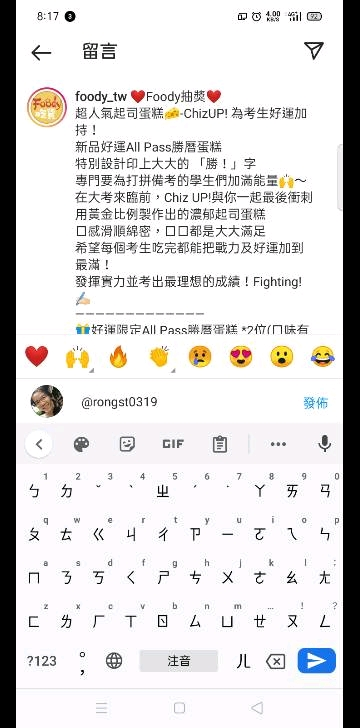back: (25, 36, 61, 68)
